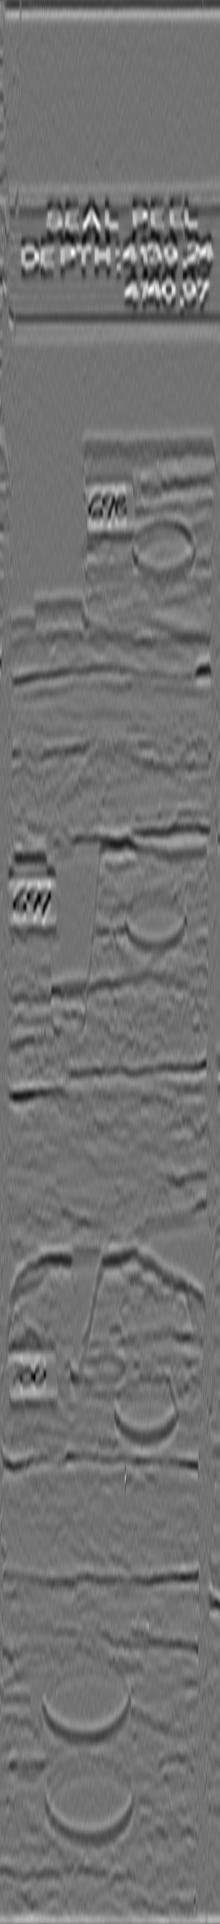hplug: (107, 1373, 187, 1449), (119, 887, 193, 957), (129, 515, 202, 583)
scal: (41, 1755, 139, 1852), (37, 1653, 135, 1747)
vplug: (33, 831, 117, 1033), (14, 452, 101, 639), (59, 1249, 113, 1385)
